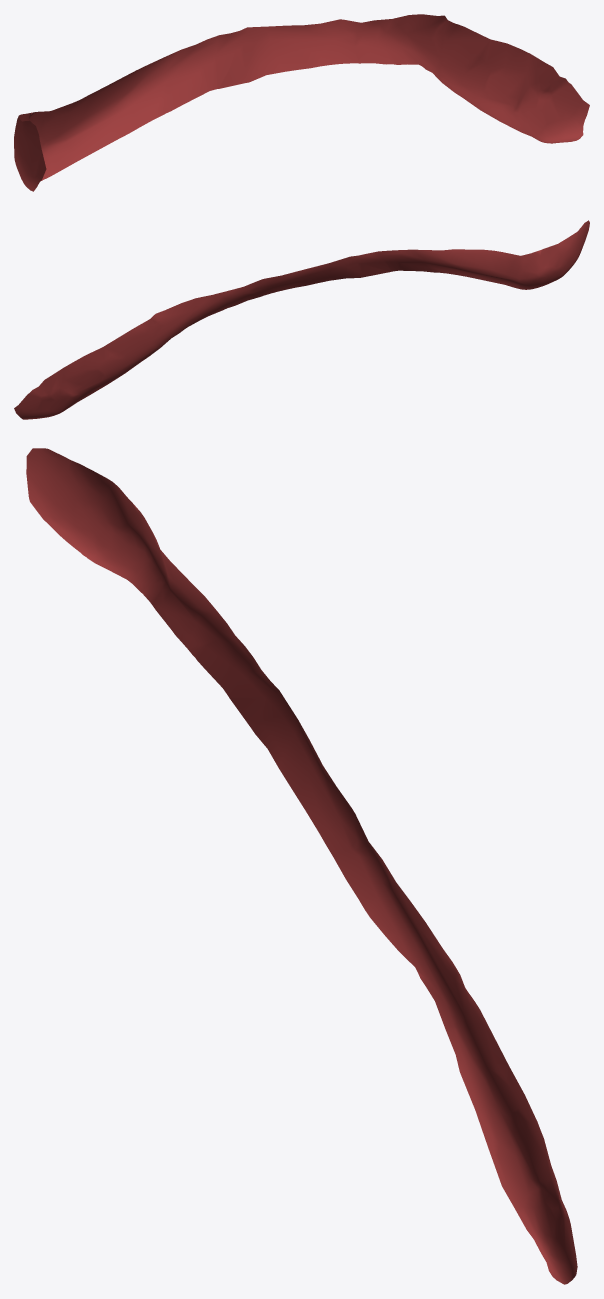
File: scapular-spinal-part-of-deltoid-muscle-or.glb
The picture shows the model from 3 angles, top to bottom: view 1: azimuth 30°, elevation 25°; view 2: azimuth 150°, elevation 25°; view 3: azimuth 270°, elevation 25°; orthographic projection. The views are drawn at different scales.
Visible parts, largest first — view 1: Scapular spinal part of deltoid muscle.or; view 2: Scapular spinal part of deltoid muscle.or; view 3: Scapular spinal part of deltoid muscle.or.
Boxes of the visible parts, left/top/right/bottom form: Scapular spinal part of deltoid muscle.or: left=14, top=14, right=589, bottom=191; Scapular spinal part of deltoid muscle.or: left=14, top=220, right=589, bottom=419; Scapular spinal part of deltoid muscle.or: left=26, top=448, right=577, bottom=1284.
Size of the model in its own units: 0.0761 by 0.0344 by 0.0414.
